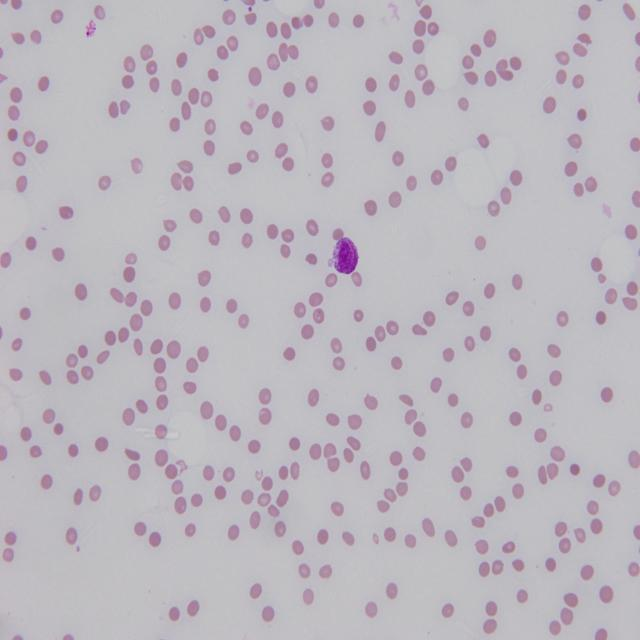cell: (331, 237, 359, 274)
